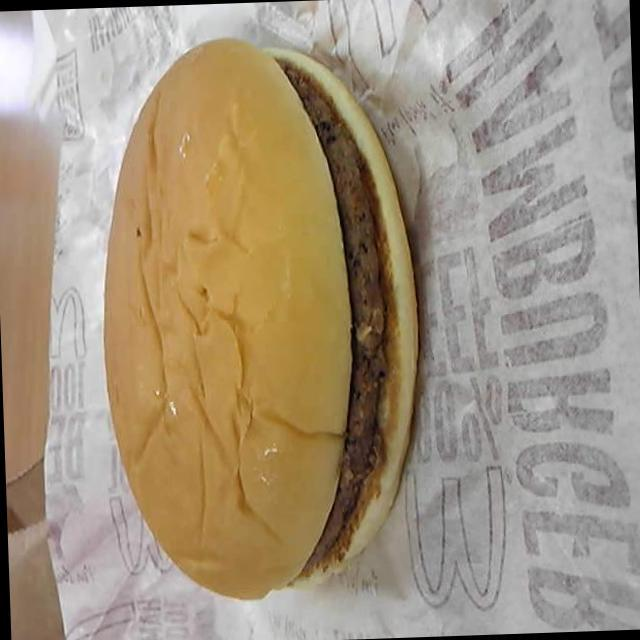Hamburger: (89, 22, 450, 610)
